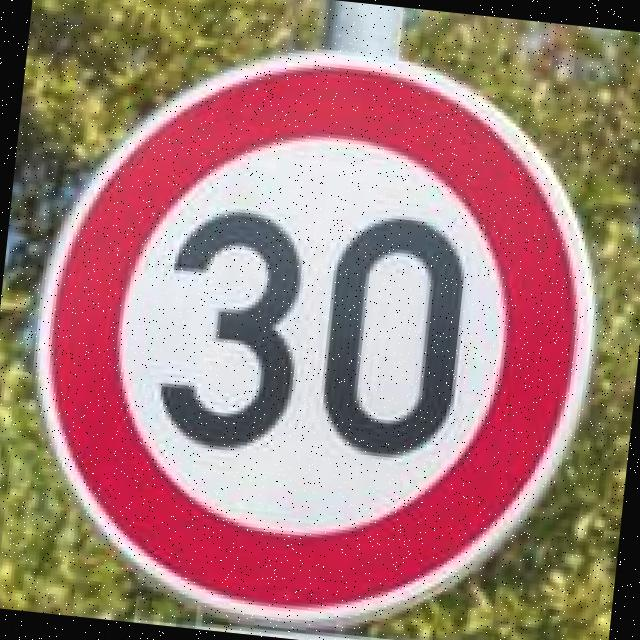Ograniczenie predkosci do 30: (8, 16, 625, 640)
